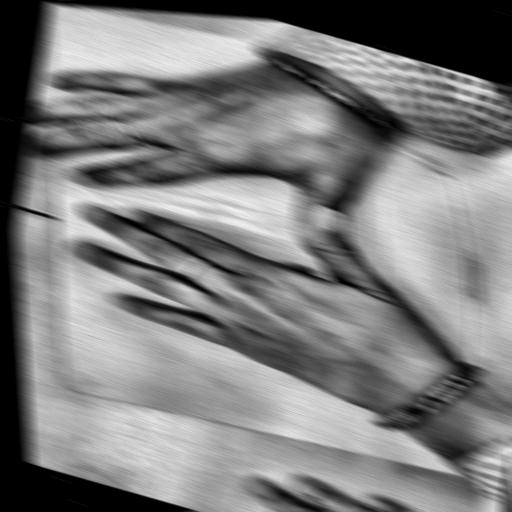boat: (9, 48, 512, 422)
top_left: (46, 3, 63, 10)
top_right: (54, 380, 78, 396)
